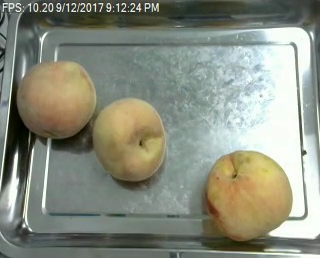Peach: (204, 149, 292, 241), (90, 96, 167, 182), (16, 59, 97, 139)
